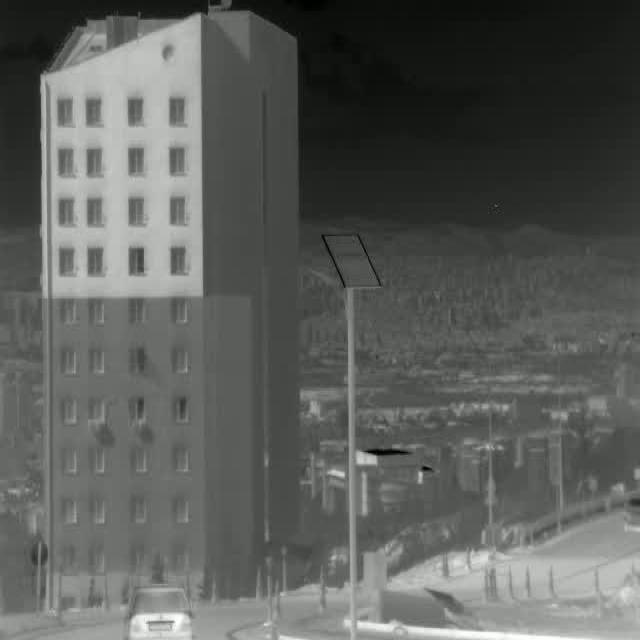Car: (123, 582, 193, 640), (621, 492, 640, 532)
